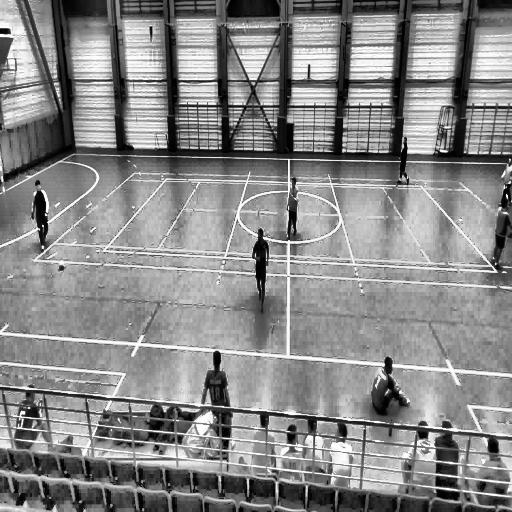ball: (59, 260, 65, 271)
player: (488, 195, 511, 271), (252, 227, 270, 313), (32, 178, 50, 248), (285, 176, 299, 241), (499, 152, 512, 210), (396, 136, 410, 187)
